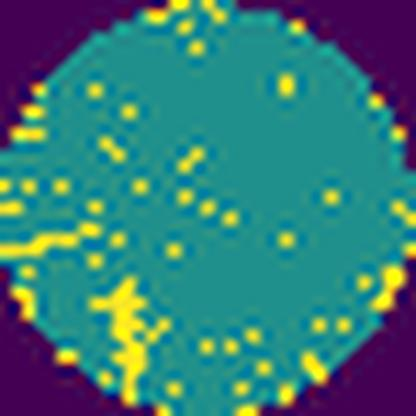Loc: (87, 275, 161, 395)
